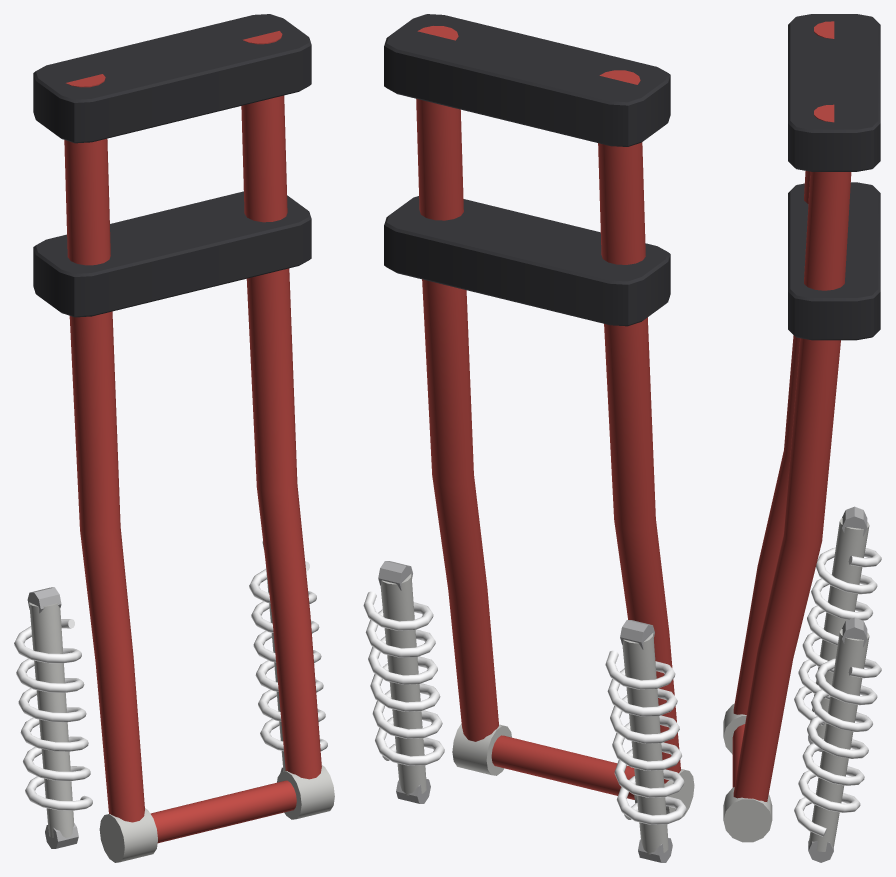
File: classic_leading_link_upper.glb
The picture shows the model from 3 angles, left to right: view 1: azimuth 30°, elevation 25°; view 2: azimuth 150°, elevation 25°; view 3: azimuth 270°, elevation 25°; orthographic projection. The views are drawn at different scales.
Visible parts, largest first — view 1: lod0; view 2: lod0; view 3: lod0.
Boxes of the visible parts, <box> form: lod0: <box>14,14,334,862</box>; lod0: <box>363,14,694,862</box>; lod0: <box>723,14,881,862</box>.
Size of what is drawn, in the model's own units: 0.282 by 0.6955 by 0.1362.
